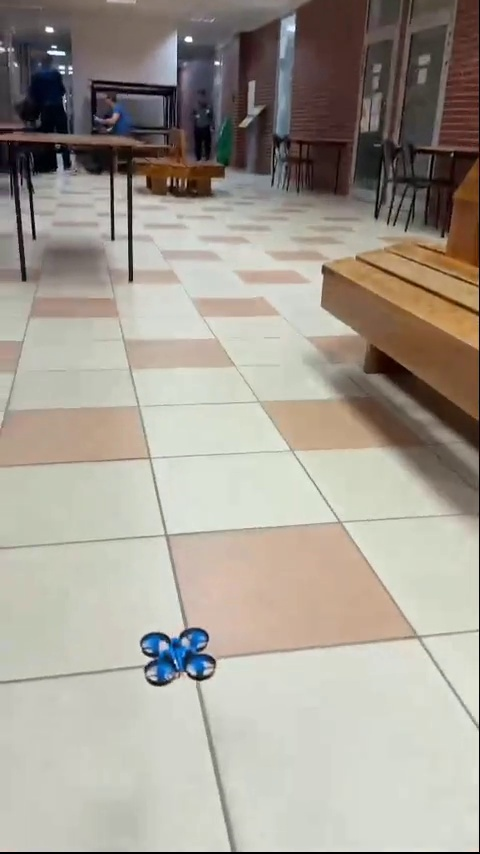drone: (143, 632, 215, 682)
no vest: (20, 48, 84, 171), (185, 84, 219, 163), (95, 87, 137, 141)
